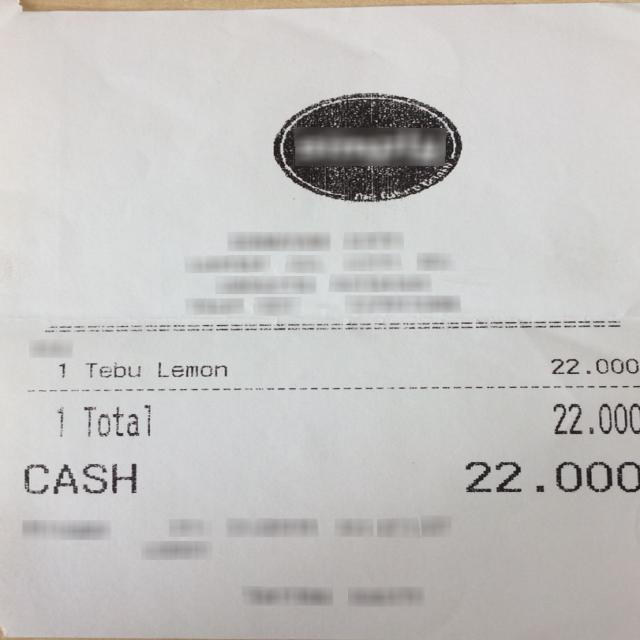text: (462, 460, 640, 492), (24, 463, 134, 494), (552, 402, 639, 435), (83, 404, 148, 436), (549, 358, 636, 373), (156, 361, 226, 377), (85, 362, 139, 377), (53, 404, 69, 438), (55, 362, 67, 378), (489, 324, 499, 327)
